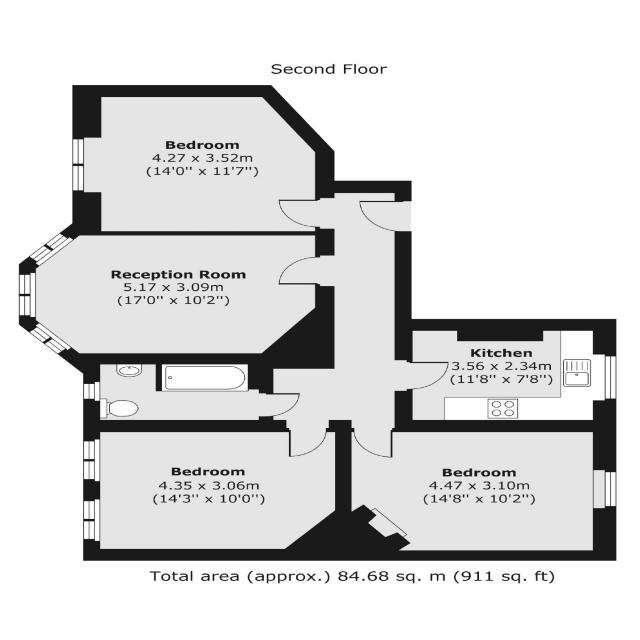DOOR: (277, 254, 335, 287), (277, 197, 335, 230), (356, 199, 412, 233), (394, 359, 450, 392), (349, 420, 396, 459), (285, 420, 330, 457), (259, 392, 301, 418)
ROOM: (18, 223, 335, 374), (283, 420, 617, 561), (71, 85, 335, 236), (83, 420, 352, 561), (395, 319, 617, 432)
WINDOW: (28, 233, 75, 267), (29, 322, 72, 355), (592, 469, 617, 509), (18, 272, 36, 318), (83, 439, 101, 482), (83, 499, 101, 541), (604, 356, 617, 399), (83, 382, 100, 401), (72, 139, 84, 164), (72, 166, 84, 191)
